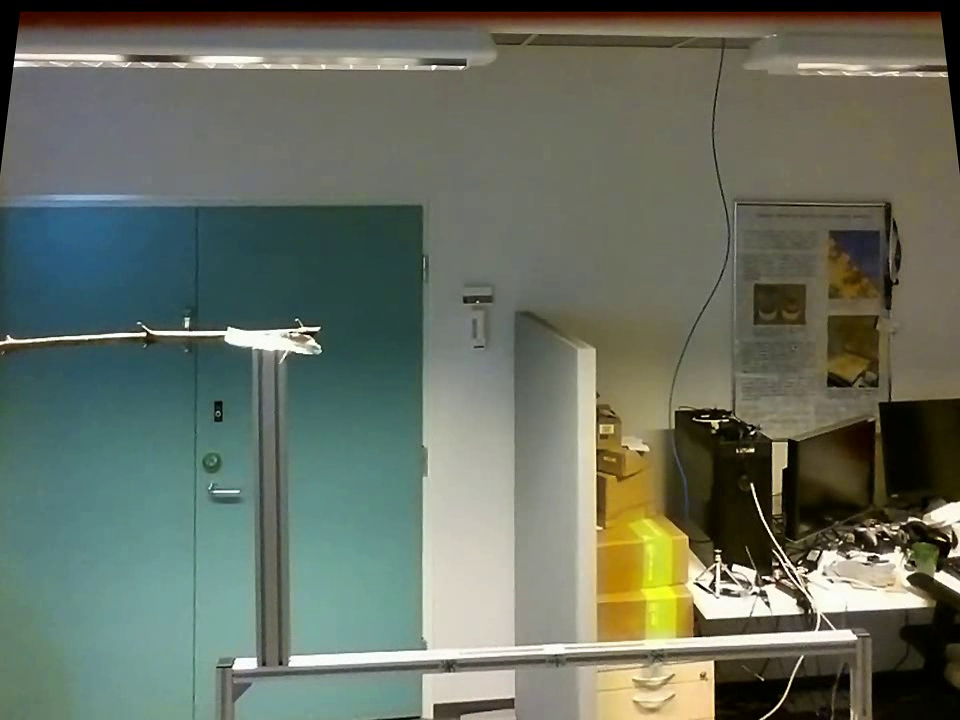aluminum_frame: (233, 618, 854, 687), (244, 350, 291, 665), (846, 623, 876, 719), (209, 654, 240, 717)
branch: (0, 310, 218, 361)
